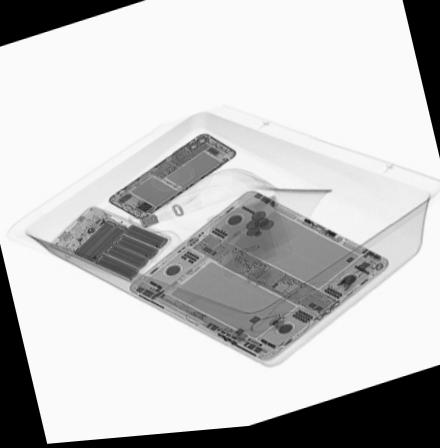Powerbank: (47, 204, 172, 282)
